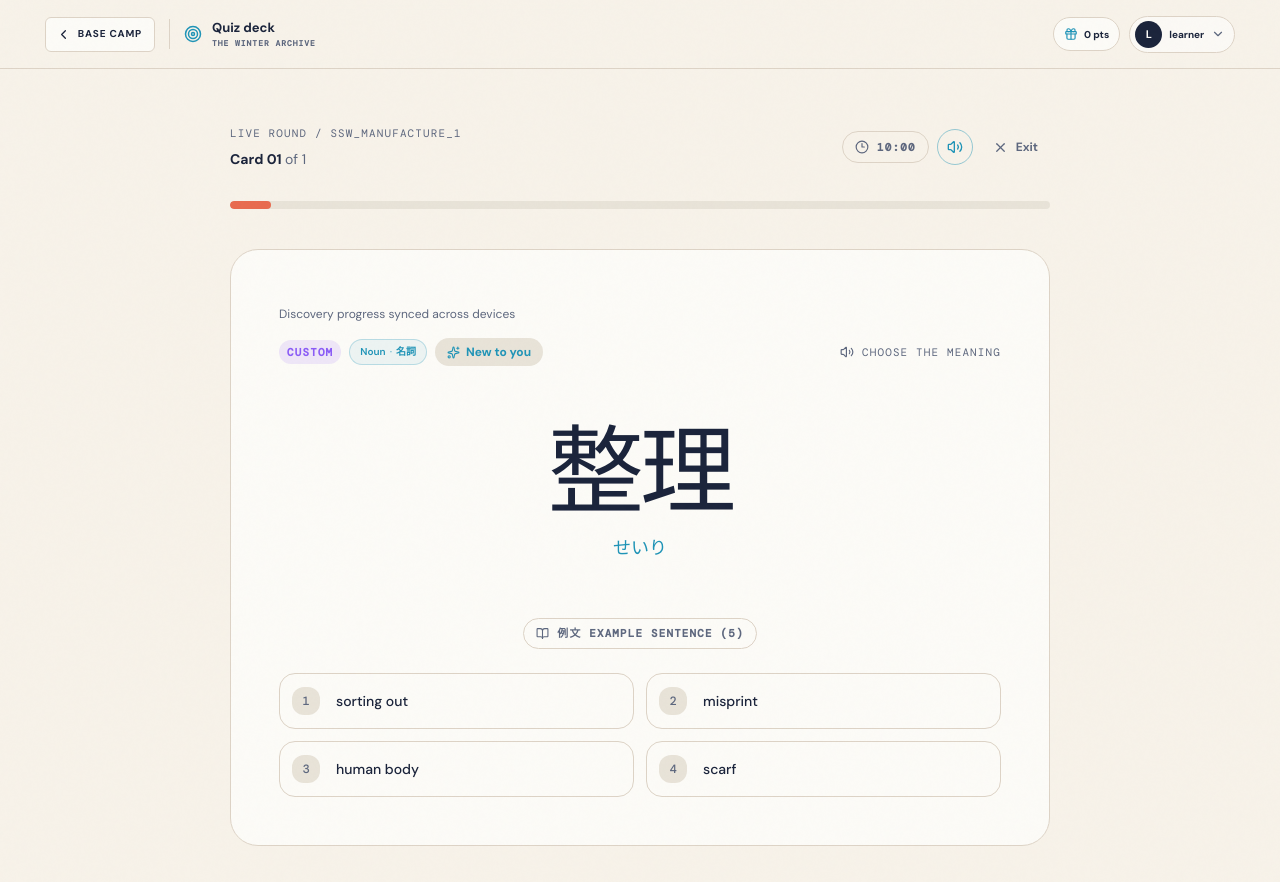
Test: example sentence box on SSW quiz cards › shows an exact-match example from the PDFs, highlighted, with its source
This screenshot has width=1280, height=882.
Expected: the element with test id "quiz-card" is shown, [230, 249, 1050, 846]
Click the button with test id "example-sentence-toggle": [640, 633] box [523, 618, 757, 649]
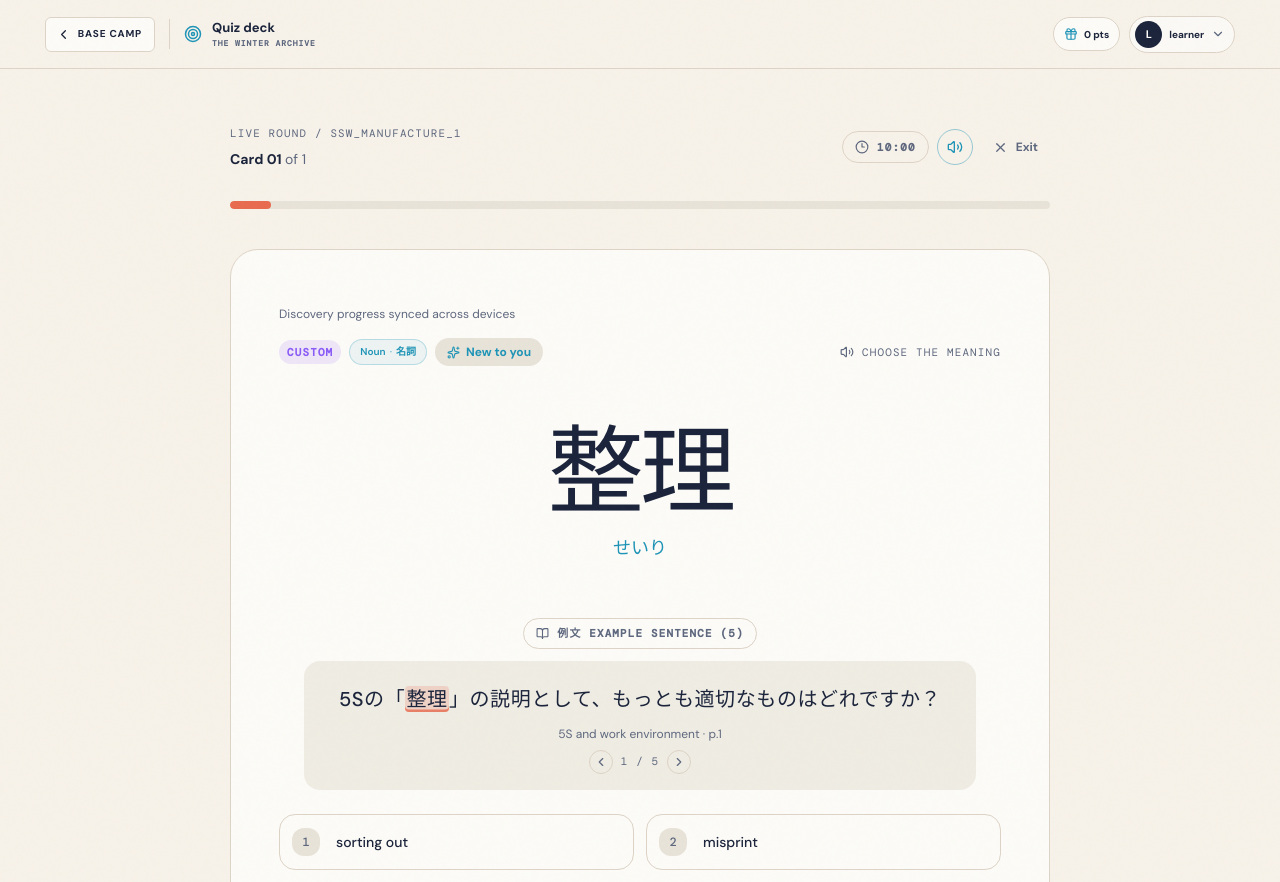
Expected: the element with test id "example-sentence-text" shows "整理", [406, 686, 448, 712]
Expected: the text with class "example-hit" reads "整理", [406, 686, 448, 712]
Expected: the text with test id "example-sentence-source" reads "5S and work environment · p.1", [700, 726, 722, 742]
